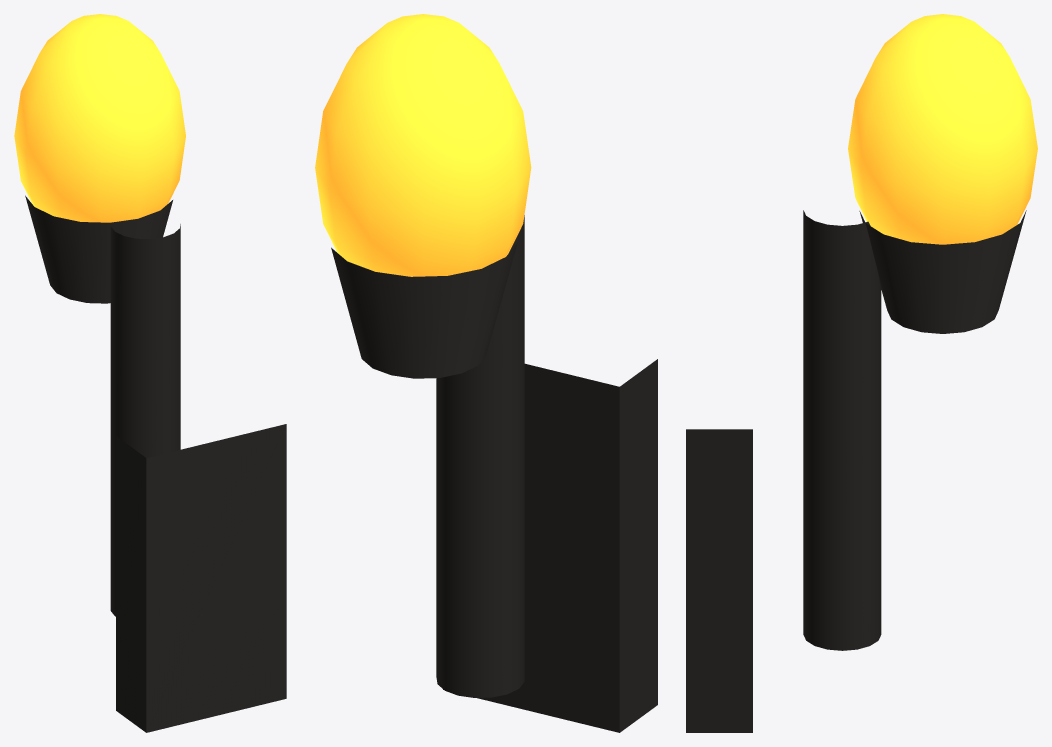
The model's file is model.torch.glb.
The picture shows the model from 3 angles, left to right: view 1: azimuth 30°, elevation 25°; view 2: azimuth 150°, elevation 25°; view 3: azimuth 270°, elevation 25°; orthographic projection. The views are drawn at different scales.
Parts seen in each view (by area): view 1: torch; view 2: torch; view 3: torch.
Boxes of the visible parts, x1,y1,x2,y2 form: torch: (14,14,286,732); torch: (315,14,657,732); torch: (686,14,1037,732).
Bounding box in the file's own units: 0.1699 × 0.6675 × 0.3152.
